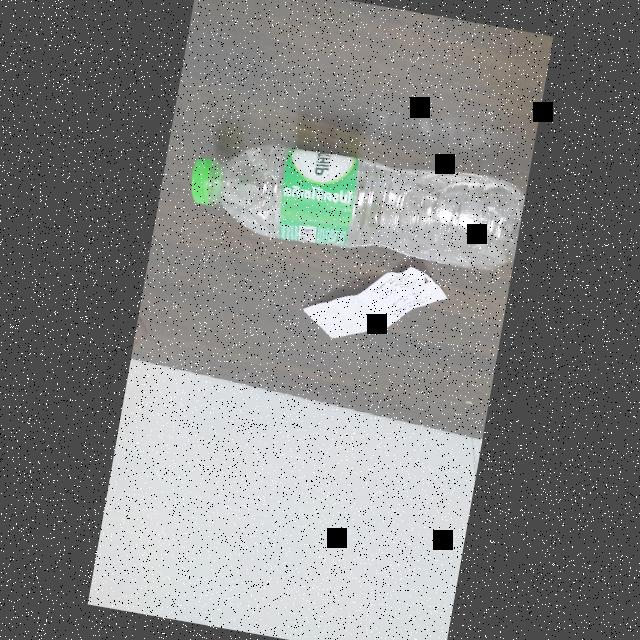plastic_bottle: (178, 119, 528, 279)
plastic_bottle_cap: (185, 156, 229, 211)
scrap_paper: (295, 249, 459, 368)
